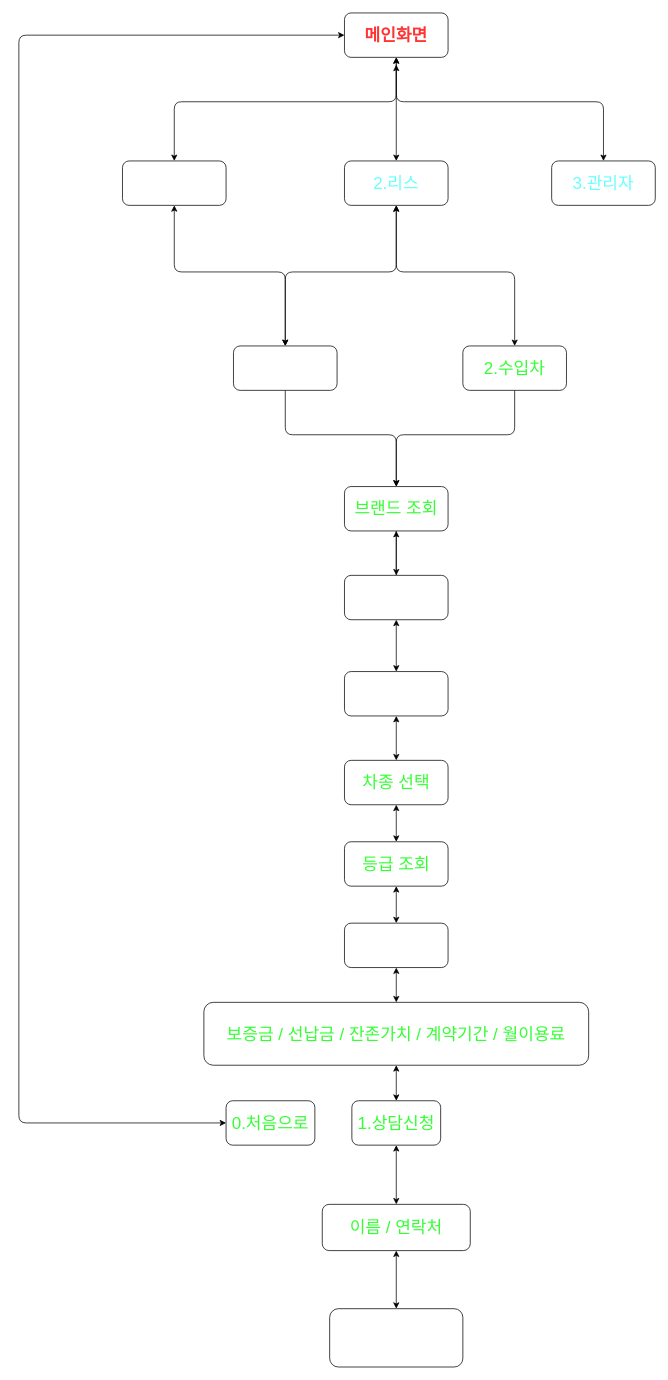
The diagram is 668 pixels wide and 1380 high, and some of its shapes have lost their labels. Here are the shapes that lost their labels. From the top down, the box of each, then its label:
(122, 160, 226, 205): 1.렌트
(233, 345, 337, 390): 1.국산차
(344, 575, 448, 620): 브랜드 선택
(344, 671, 448, 716): 차종 조회
(344, 922, 448, 968): 등급 선택
(329, 1308, 463, 1367): 접수성공 접수번호 출력
